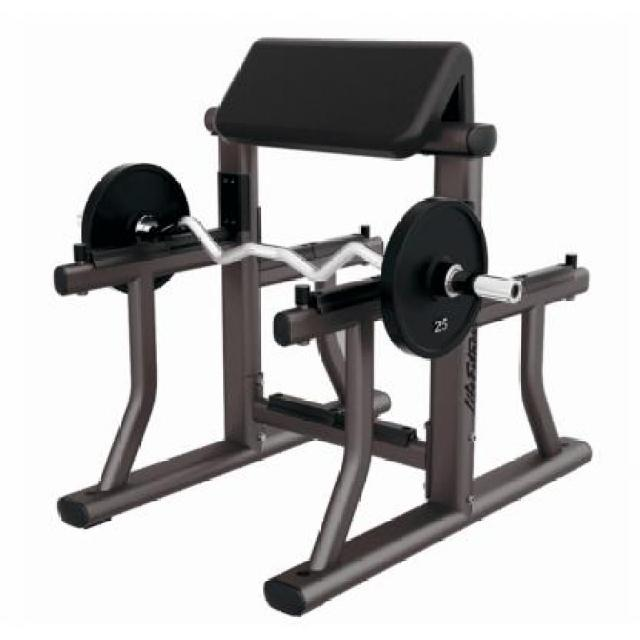arm curl machine: (54, 39, 592, 618)
